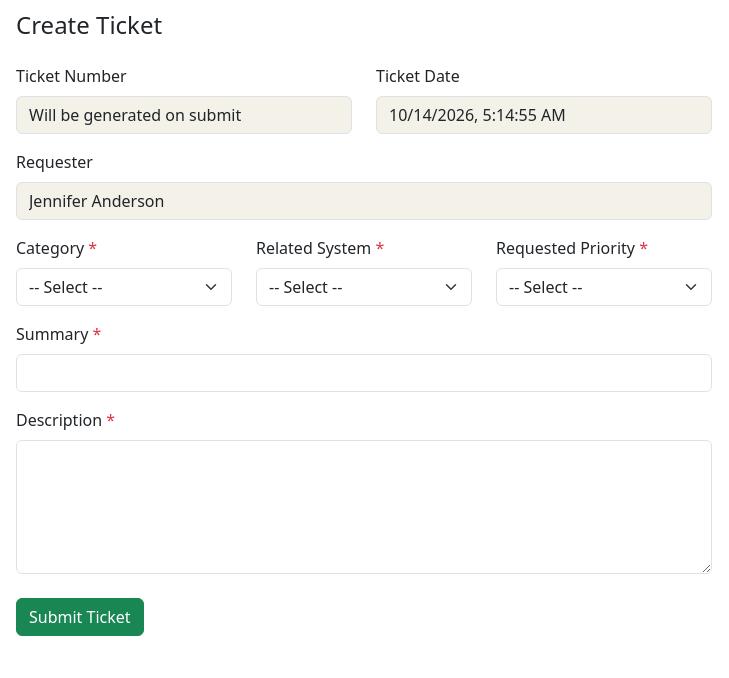
Test case: CreateTicket › shows a field error and does not submit when Summary is empty
The image size is (729, 678).
Select "Hardware" in the dropdown labelled "Category *" at {"x": 124, "y": 287}, box [16, 268, 232, 306]
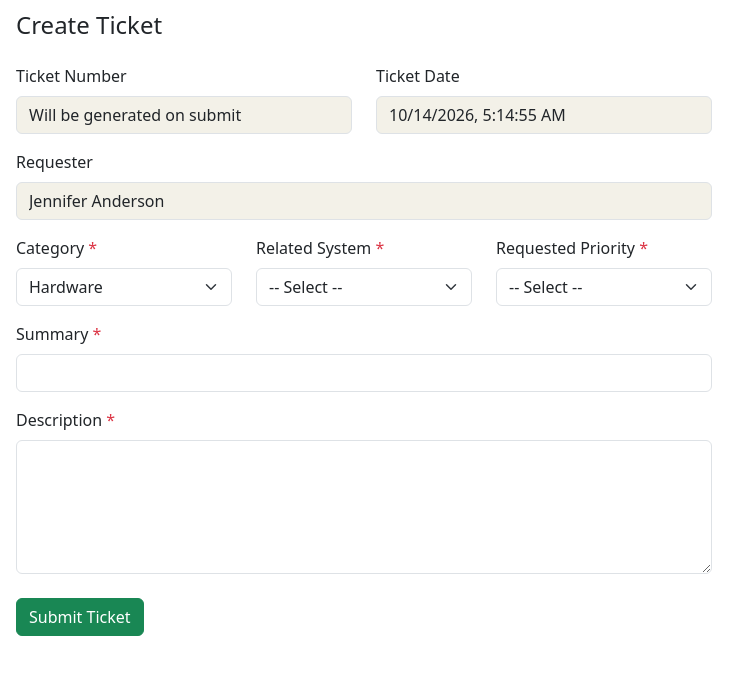
Select "Corporate Laptop" in the dropdown labelled "Related System *" at {"x": 364, "y": 287}, box [256, 268, 472, 306]
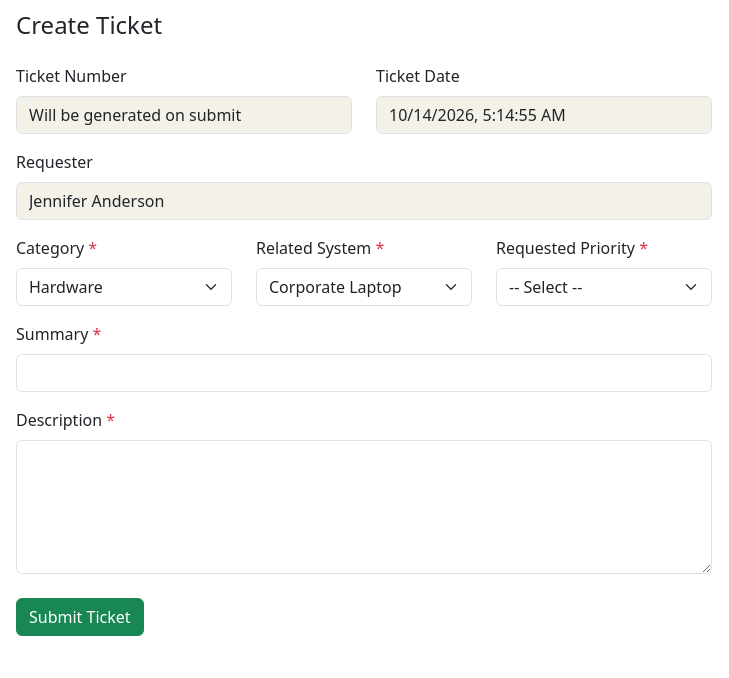
Select "Medium" in the dropdown labelled "Requested Priority *" at {"x": 604, "y": 287}, box [496, 268, 712, 306]
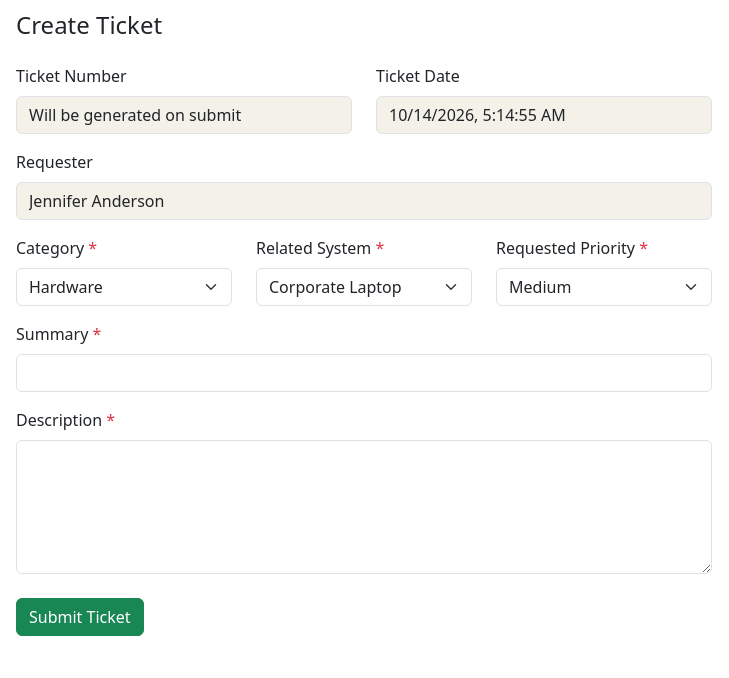
Type "Some description text." into the text box labelled "Description *" at {"x": 364, "y": 507}, box [16, 440, 712, 574]
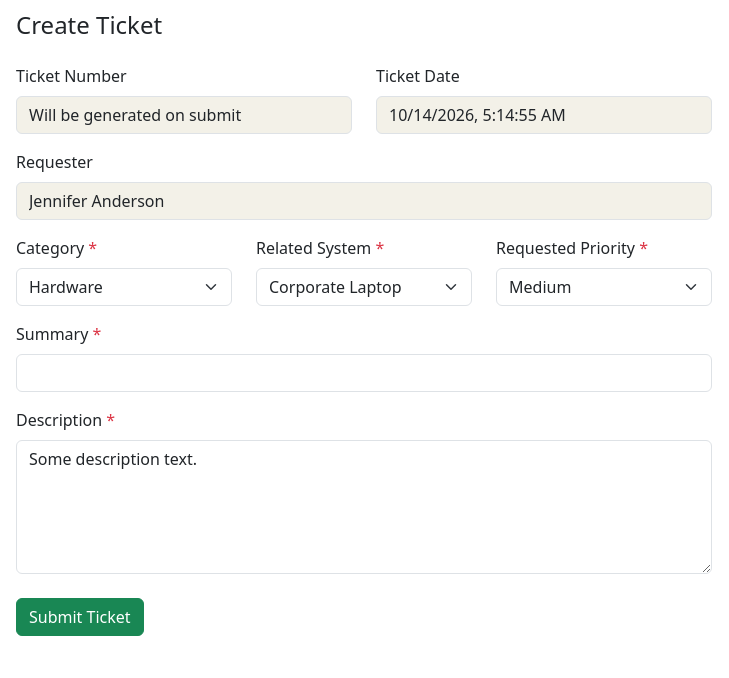
Click the button "Submit Ticket" at {"x": 80, "y": 617}, box [16, 598, 144, 636]
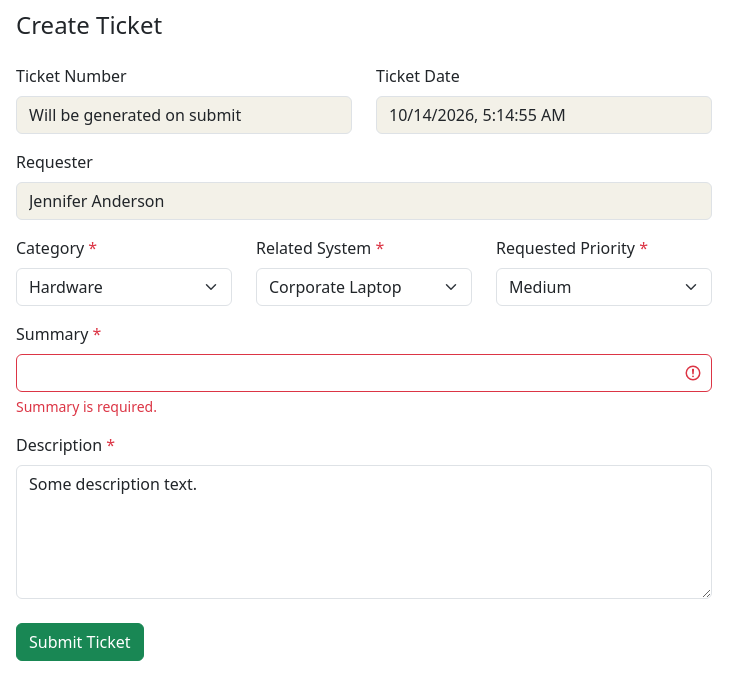
Now the text "Summary is required." is shown, box [16, 397, 157, 416]
